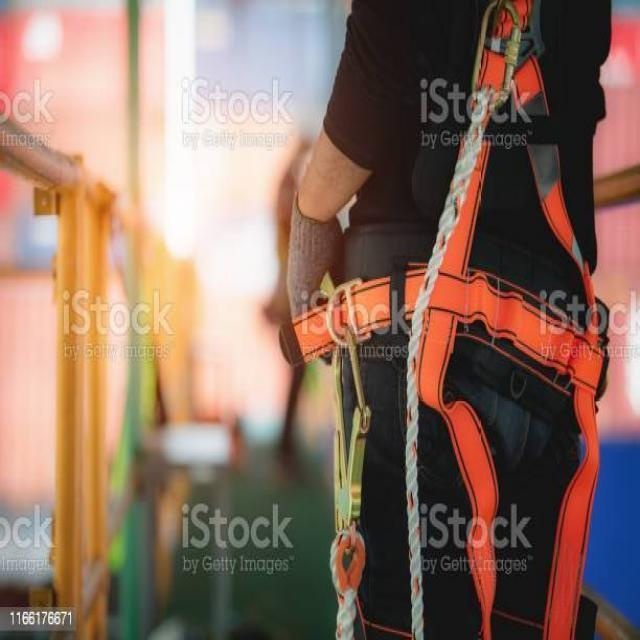Arnes_seguridad: (301, 0, 640, 640)
